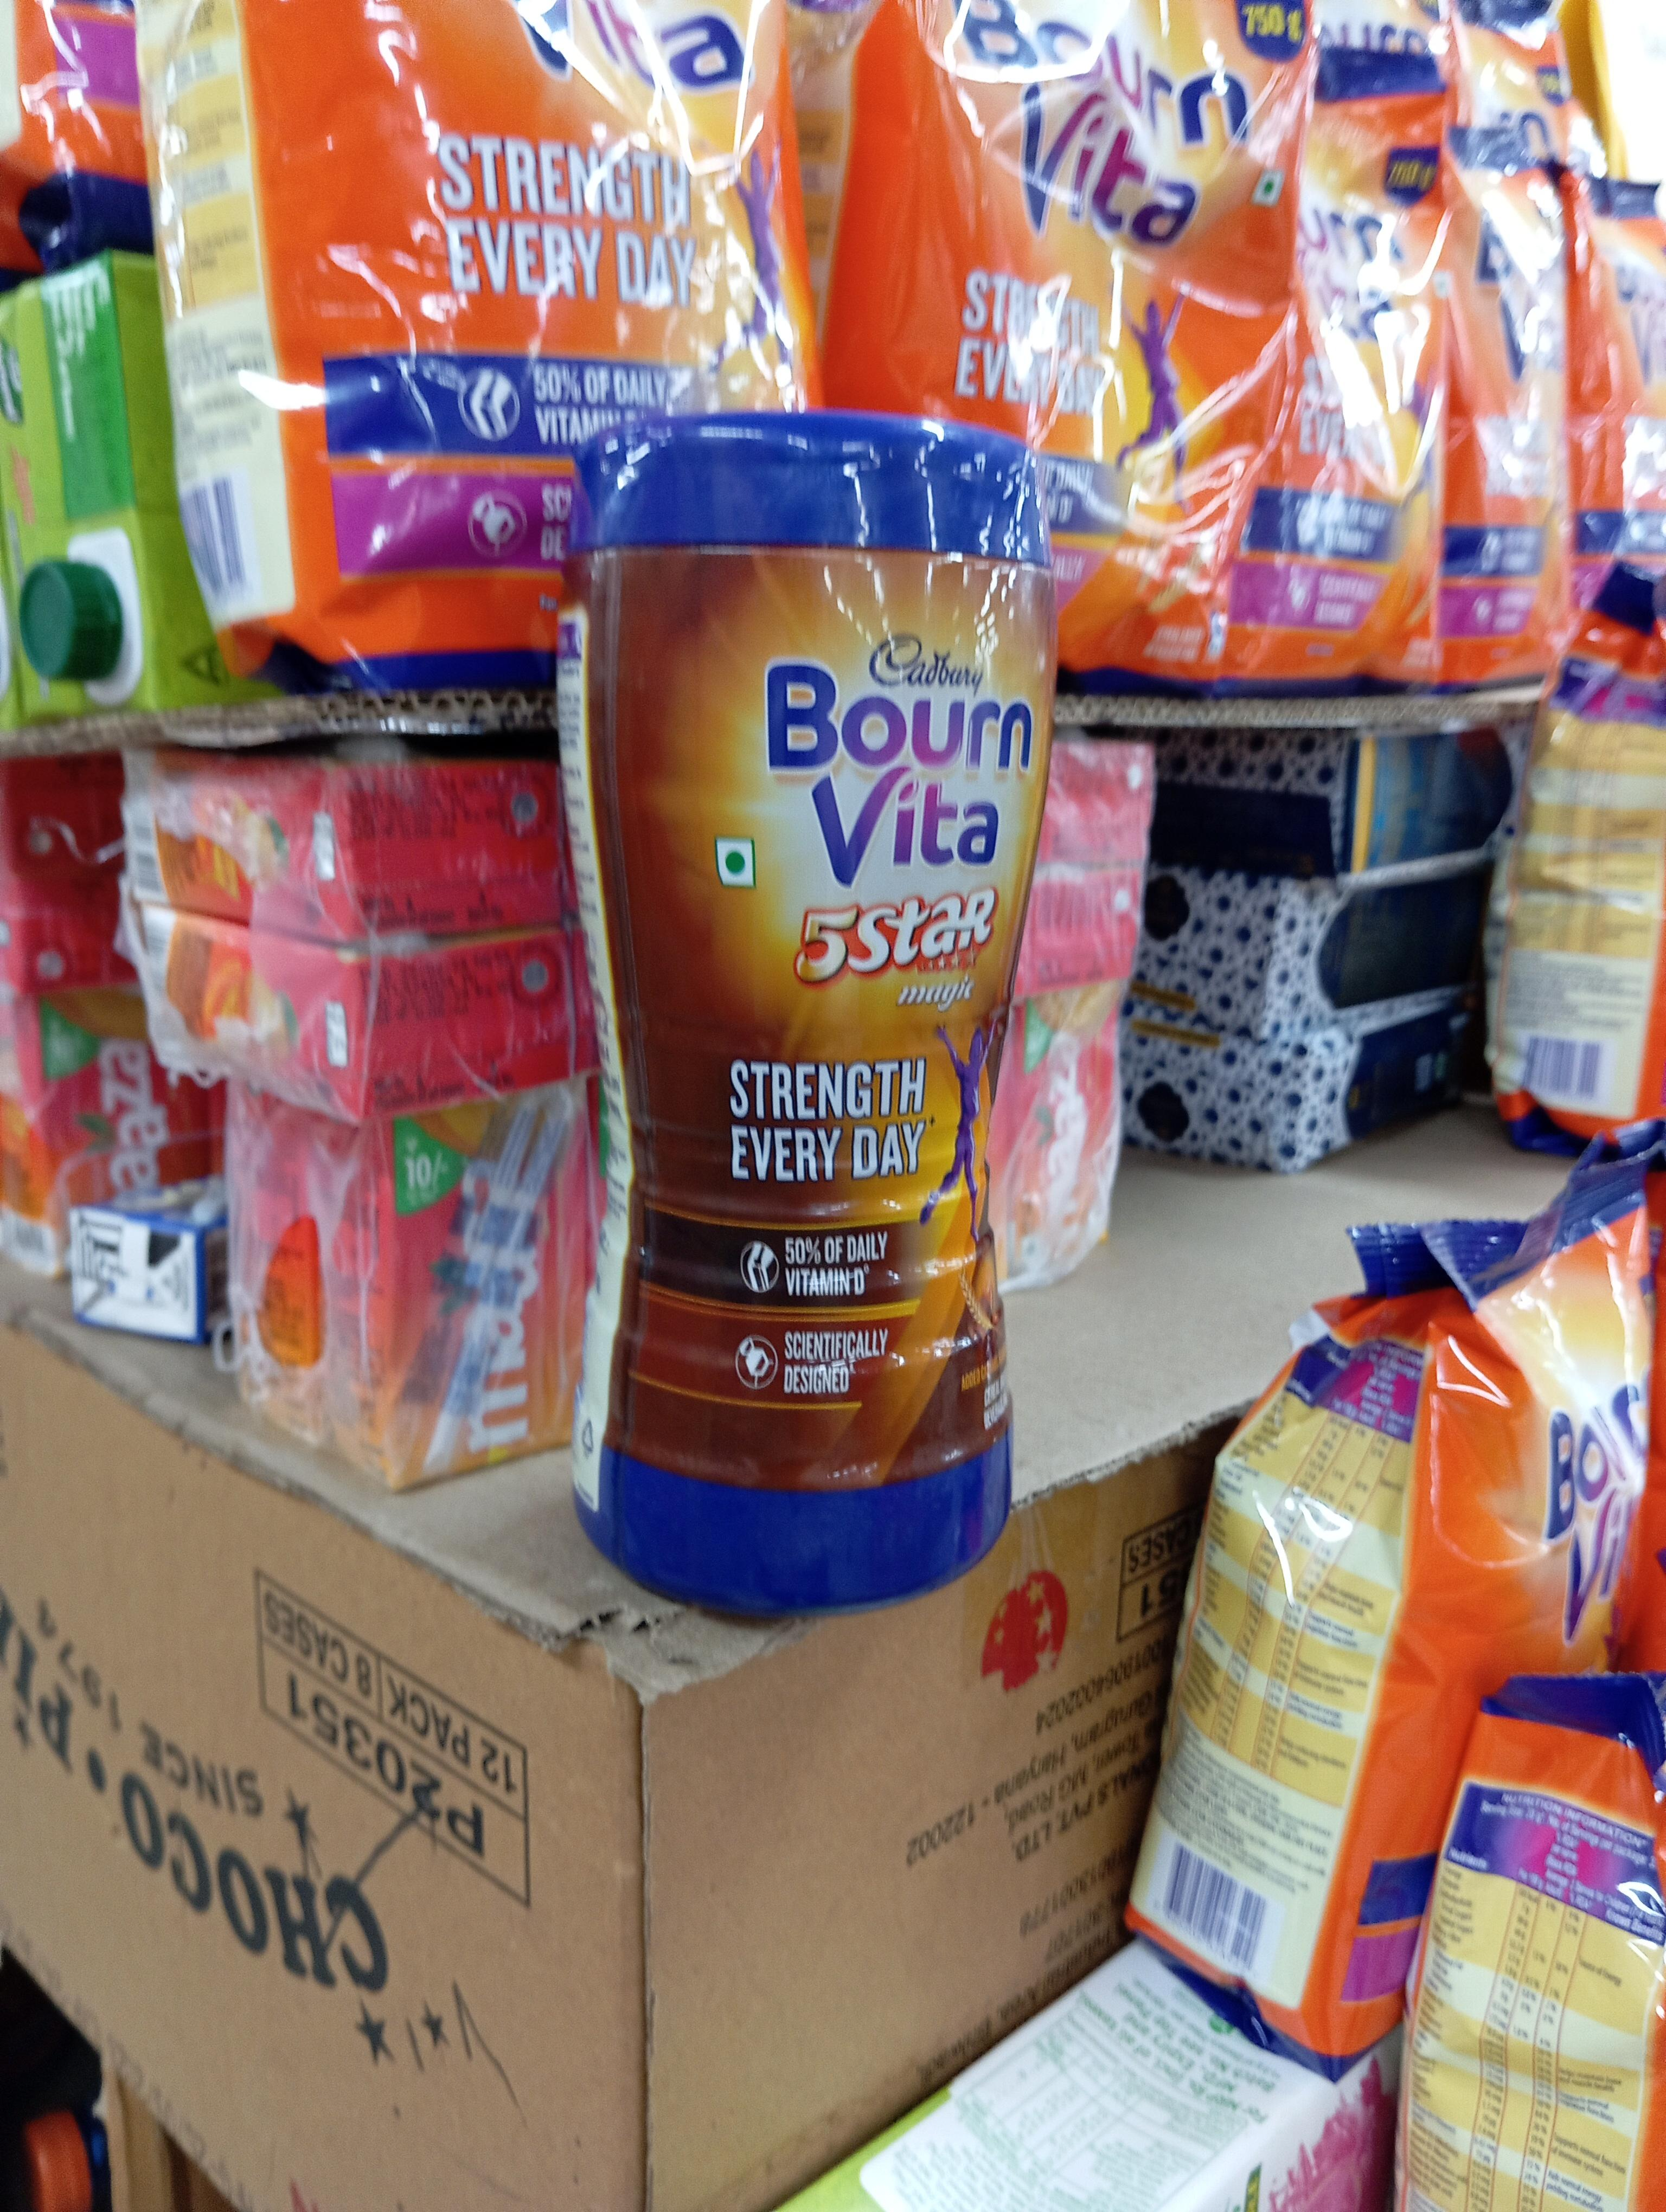BOURN_VITA_FIVE_STAR_MAGIC_500_G_JAR: (581, 402, 1043, 1626)
